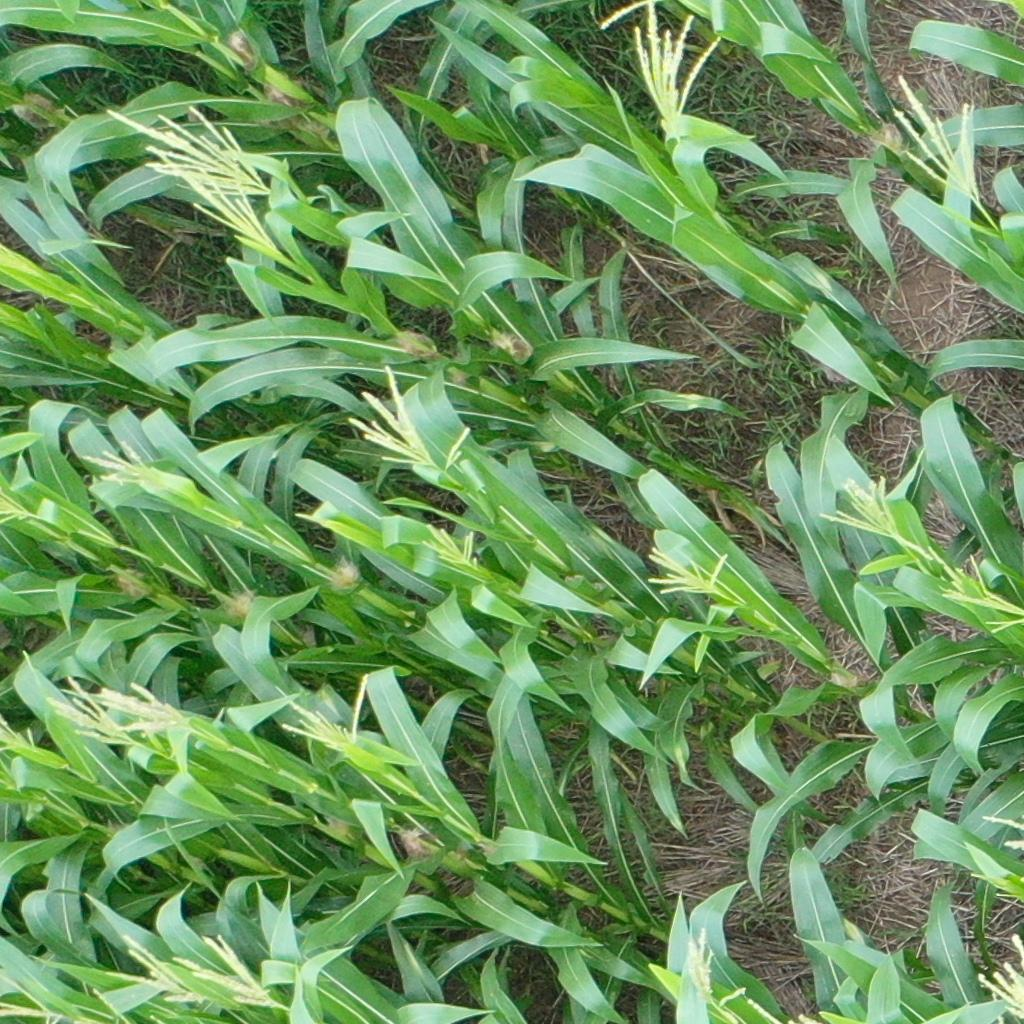Tassel: (597, 1, 715, 143), (877, 66, 987, 217), (107, 97, 276, 195), (344, 365, 474, 481), (153, 149, 282, 261), (175, 933, 289, 1010), (275, 673, 372, 759), (817, 467, 912, 546), (938, 553, 1024, 635), (101, 933, 197, 1006), (51, 669, 138, 749), (669, 925, 743, 1005), (99, 677, 197, 737), (643, 546, 730, 605), (974, 923, 1024, 1021), (423, 518, 482, 574), (80, 441, 148, 489), (1, 971, 61, 1024), (742, 997, 825, 1024), (982, 813, 1024, 858), (1, 712, 41, 755), (1, 488, 30, 528), (1, 749, 20, 793)
